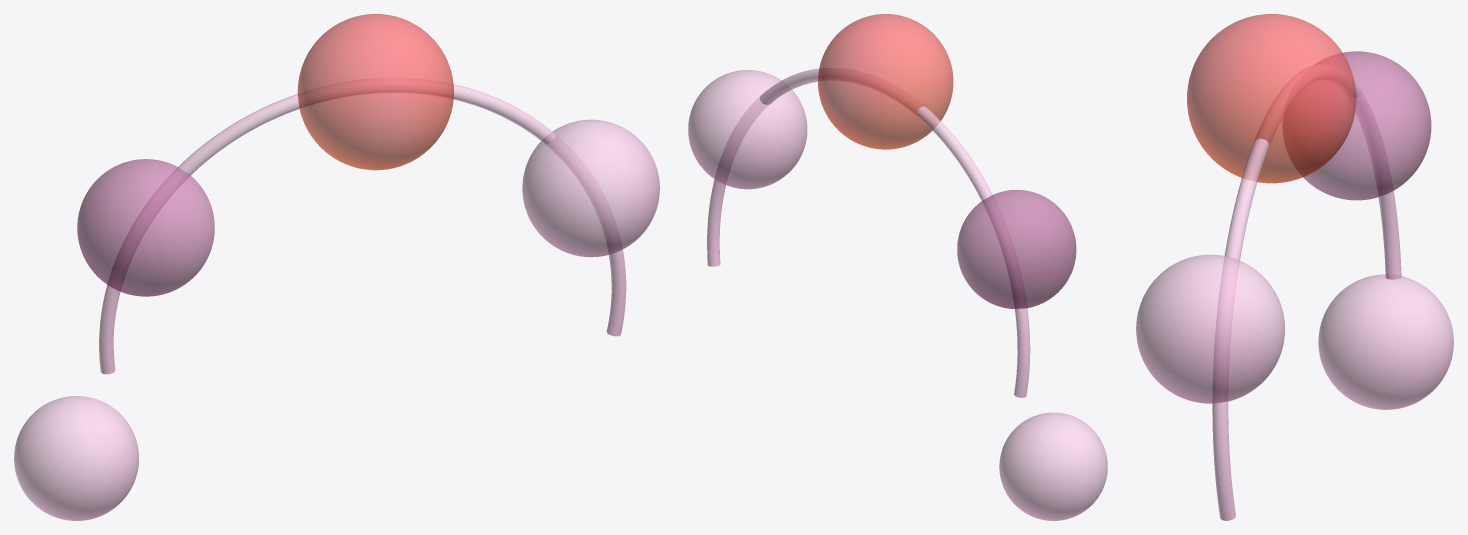
File: juggling-balls.glb
3 views of the same model, side by side, from view 1: azimuth 30°, elevation 25°; view 2: azimuth 150°, elevation 25°; view 3: azimuth 270°, elevation 25° (orthographic). The views are drawn at different scales.
Parts seen in each view (by area): view 1: ball_1, ball_3, ball_2, trajectory, ball_4; view 2: ball_1, ball_2, ball_3, ball_4, trajectory; view 3: ball_1, ball_2, ball_3, ball_4, trajectory.
Boxes of the visible parts, <box> form: ball_1: <box>297,14,453,170</box>; ball_3: <box>77,159,214,296</box>; ball_2: <box>522,119,659,257</box>; trajectory: <box>99,78,626,374</box>; ball_4: <box>14,396,138,520</box>; ball_1: <box>818,14,953,149</box>; ball_2: <box>688,70,807,189</box>; ball_3: <box>957,190,1076,308</box>; ball_4: <box>999,412,1107,520</box>; trajectory: <box>707,68,1030,397</box>; ball_1: <box>1187,14,1356,183</box>; ball_2: <box>1136,254,1285,403</box>; ball_3: <box>1283,51,1431,200</box>; ball_4: <box>1318,274,1453,409</box>; trajectory: <box>1212,65,1401,520</box>.
Bounding box in the file's own units: 1.01 × 0.8335 × 0.469.
